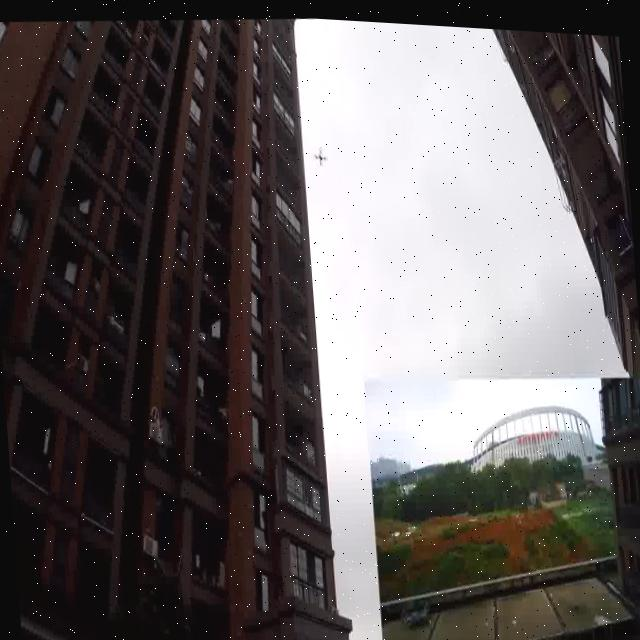drone: (300, 114, 345, 186)
